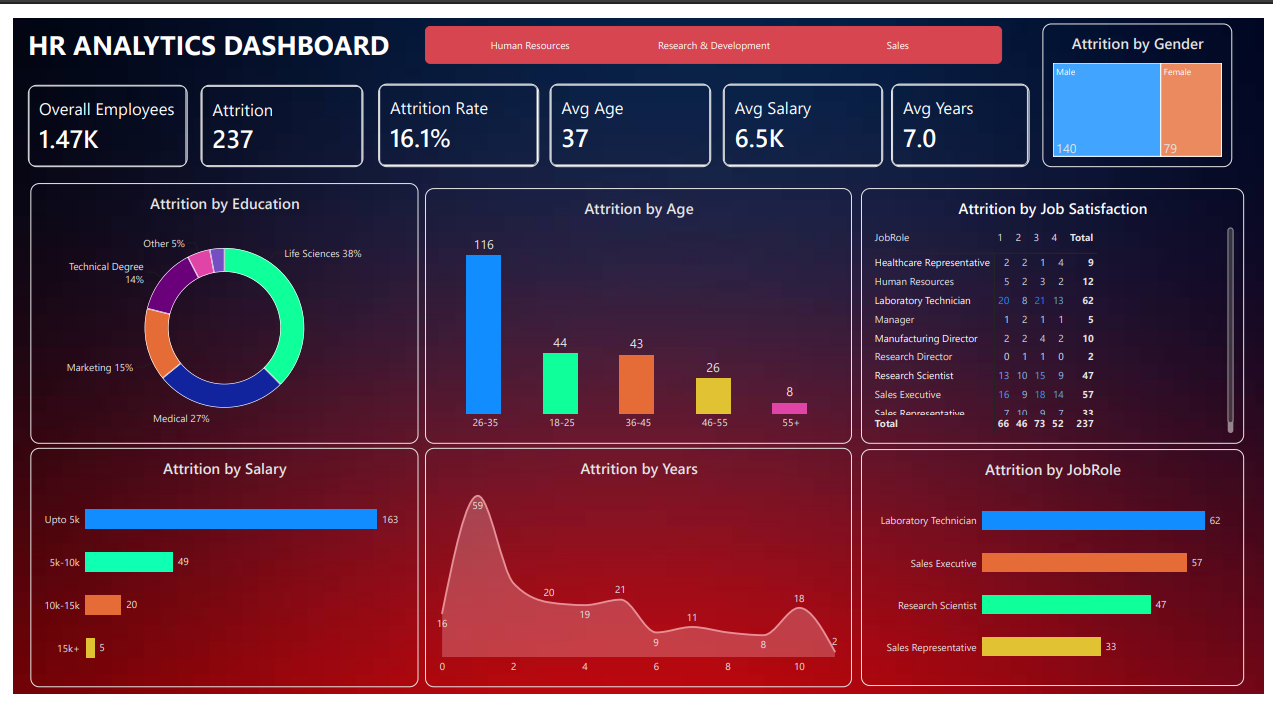

The dashboard page shown, as its layout file describes it:
{"tool":"powerbi","page":{"name":"Page 1","canvas":[2000,1080],"ordinal":0},"visuals":[{"type":"cardVisual","fields":{"Data":["CountNonNull(HR_Analytics.EmpID)"]},"box":[24.3,106.7,254.7,131.1],"z":0},{"type":"cardVisual","fields":{"Data":["Sum(HR_Analytics.AttritionCount)"]},"box":[299.6,106.7,260.3,131.1],"z":1000},{"type":"cardVisual","fields":{"Data":["HR_Analytics.AttritionRate"]},"box":[584.3,104.9,256.6,133],"z":2000},{"type":"cardVisual","fields":{"Data":["Avg(HR_Analytics.Age)"]},"box":[857.7,104.9,258.4,133],"z":3000},{"type":"cardVisual","fields":{"Data":["Avg(HR_Analytics.MonthlyIncome)"]},"box":[1134.8,104.9,256.6,133],"z":4000},{"type":"cardVisual","fields":{"Data":["Avg(HR_Analytics.YearsAtCompany)"]},"box":[1404.5,104.9,221,133],"z":5000},{"type":"donutChart","title":"Attrition by Education","fields":{"Category":["HR_Analytics.EducationField"],"Y":["Sum(HR_Analytics.AttritionCount)"]},"box":[28.1,264,619.9,415.7],"z":6000},{"type":"columnChart","title":"Attrition by Age","fields":{"Category":["HR_Analytics.AgeGroup"],"Y":["Sum(HR_Analytics.AttritionCount)"]},"box":[659.2,271.5,681.6,408.2],"z":7000},{"type":"pivotTable","title":"Attrition by Job Satisfaction","fields":{"Columns":["HR_Analytics.JobSatisfaction"],"Rows":["HR_Analytics.JobRole"],"Values":["Sum(HR_Analytics.AttritionCount)"]},"box":[1355.8,271.5,612.4,408.2],"z":8000},{"type":"barChart","title":"Attrition by Salary","fields":{"Category":["HR_Analytics.SalarySlab"],"Y":["Sum(HR_Analytics.AttritionCount)"]},"box":[28.1,687.3,619.9,382],"z":9000},{"type":"barChart","title":"Attrition by JobRole","fields":{"Category":["HR_Analytics.JobRole"],"Y":["Sum(HR_Analytics.AttritionCount)"]},"box":[1355.8,689.1,612.4,378.3],"z":10000},{"type":"areaChart","title":"Attrition by Years","fields":{"Category":["HR_Analytics.YearsAtCompany"],"Y":["Sum(HR_Analytics.AttritionCount)"]},"box":[659.2,687.3,681.6,382],"z":11000},{"type":"treemap","title":"Attrition by Gender","fields":{"Group":["HR_Analytics.Gender"],"Values":["Sum(HR_Analytics.AttritionCount)"]},"box":[1646.1,9.4,303.4,228.5],"z":12000},{"type":"slicer","fields":{"Values":["HR_Analytics.Department"]},"box":[659.2,13.1,921.3,59.9],"z":13000},{"type":"textbox","box":[24.3,13.1,685.4,74.9],"z":14000}]}

Visuals, with their boxes in screenshot pixels (x1, y1, x2, y2), scaled from the page's 2000x1080 canvas onto the 1273x705 screenshot:
cardVisual - CountNonNull(HR_Analytics.EmpID): (left=15, top=70, right=178, bottom=155)
cardVisual - Sum(HR_Analytics.AttritionCount): (left=191, top=70, right=356, bottom=155)
cardVisual - HR_Analytics.AttritionRate: (left=372, top=68, right=535, bottom=155)
cardVisual - Avg(HR_Analytics.Age): (left=546, top=68, right=710, bottom=155)
cardVisual - Avg(HR_Analytics.MonthlyIncome): (left=722, top=68, right=886, bottom=155)
cardVisual - Avg(HR_Analytics.YearsAtCompany): (left=894, top=68, right=1035, bottom=155)
"Attrition by Education" donutChart: (left=18, top=172, right=412, bottom=444)
"Attrition by Age" columnChart: (left=420, top=177, right=853, bottom=444)
"Attrition by Job Satisfaction" pivotTable: (left=863, top=177, right=1253, bottom=444)
"Attrition by Salary" barChart: (left=18, top=449, right=412, bottom=698)
"Attrition by JobRole" barChart: (left=863, top=450, right=1253, bottom=697)
"Attrition by Years" areaChart: (left=420, top=449, right=853, bottom=698)
"Attrition by Gender" treemap: (left=1048, top=6, right=1241, bottom=155)
slicer - HR_Analytics.Department: (left=420, top=9, right=1006, bottom=48)
textbox: (left=15, top=9, right=452, bottom=57)
